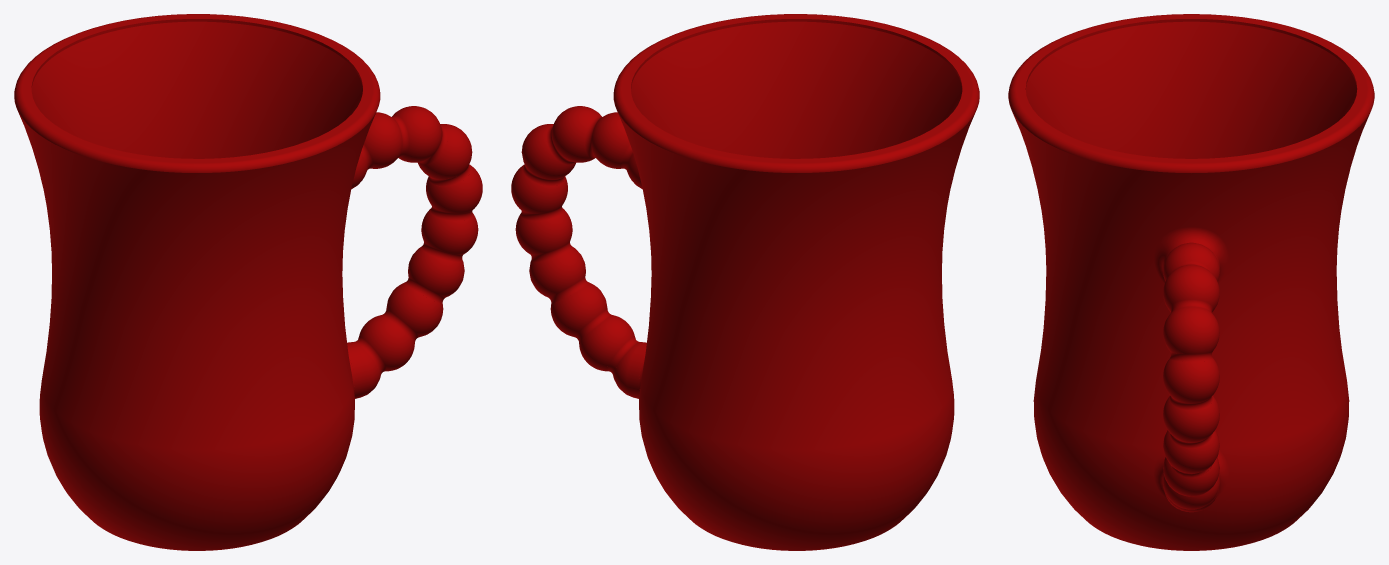
3 renders of one model, left to right at view 1: azimuth 30°, elevation 25°; view 2: azimuth 150°, elevation 25°; view 3: azimuth 270°, elevation 25°, orthographic.
Size of the model in its own units: 0.0805 by 0.0735 by 0.058.
